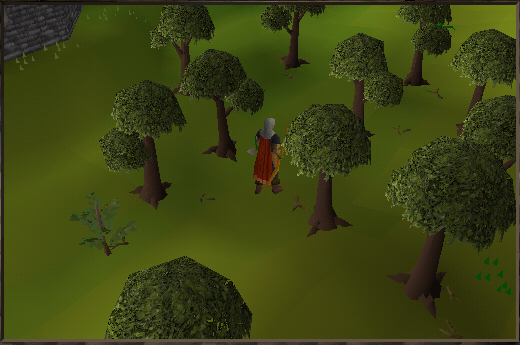Tree: (376, 141, 502, 314), (103, 78, 175, 212), (297, 102, 358, 234), (191, 56, 259, 162), (449, 30, 514, 133), (400, 0, 455, 88), (152, 0, 212, 77), (336, 34, 380, 103), (275, 0, 319, 69)
